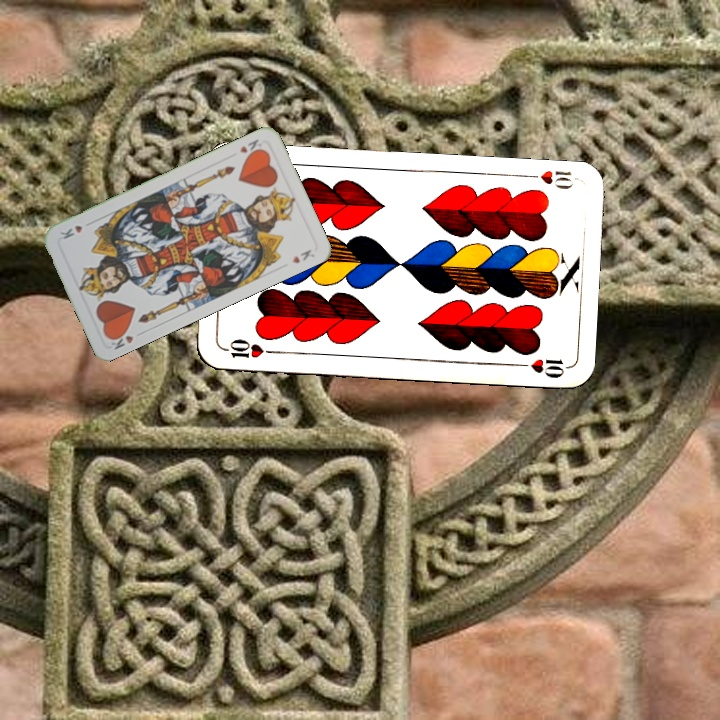H10: (220, 336, 279, 361), (519, 166, 575, 192)
HK: (104, 326, 146, 352), (235, 135, 266, 159)
